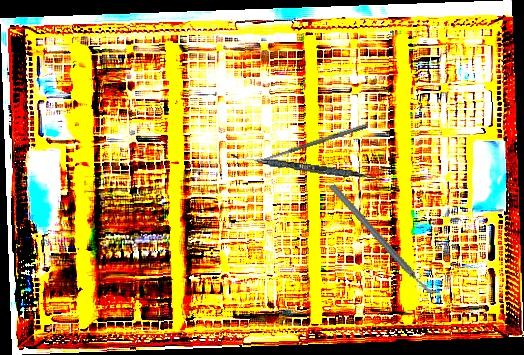Chopper: (328, 163, 441, 316)
Spatula Surgical: (230, 153, 383, 182)
Surgical Spoon: (255, 123, 368, 164)
